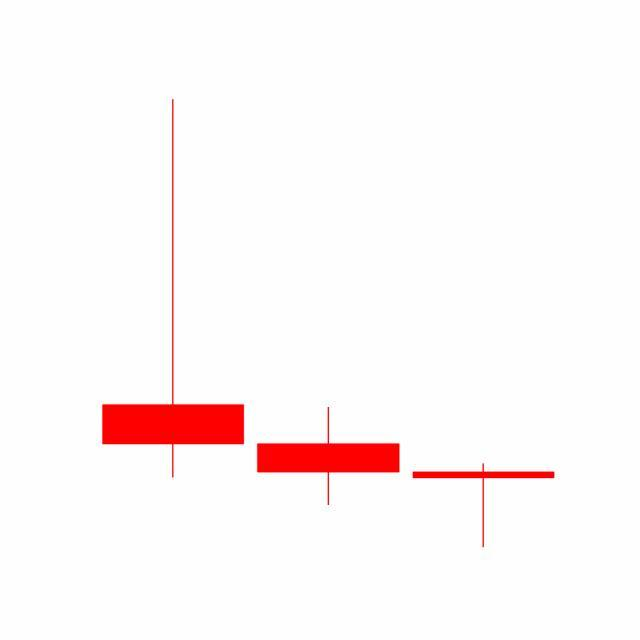Hammer: (406, 463, 562, 550)
